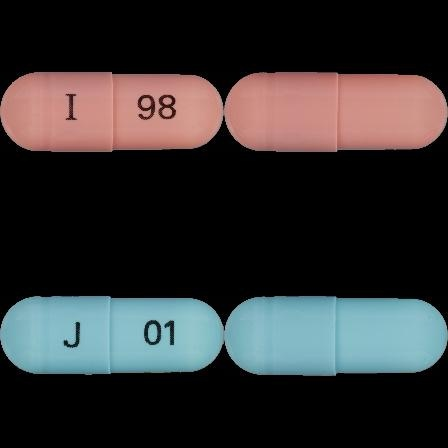65862-584: (0, 0, 224, 224)
